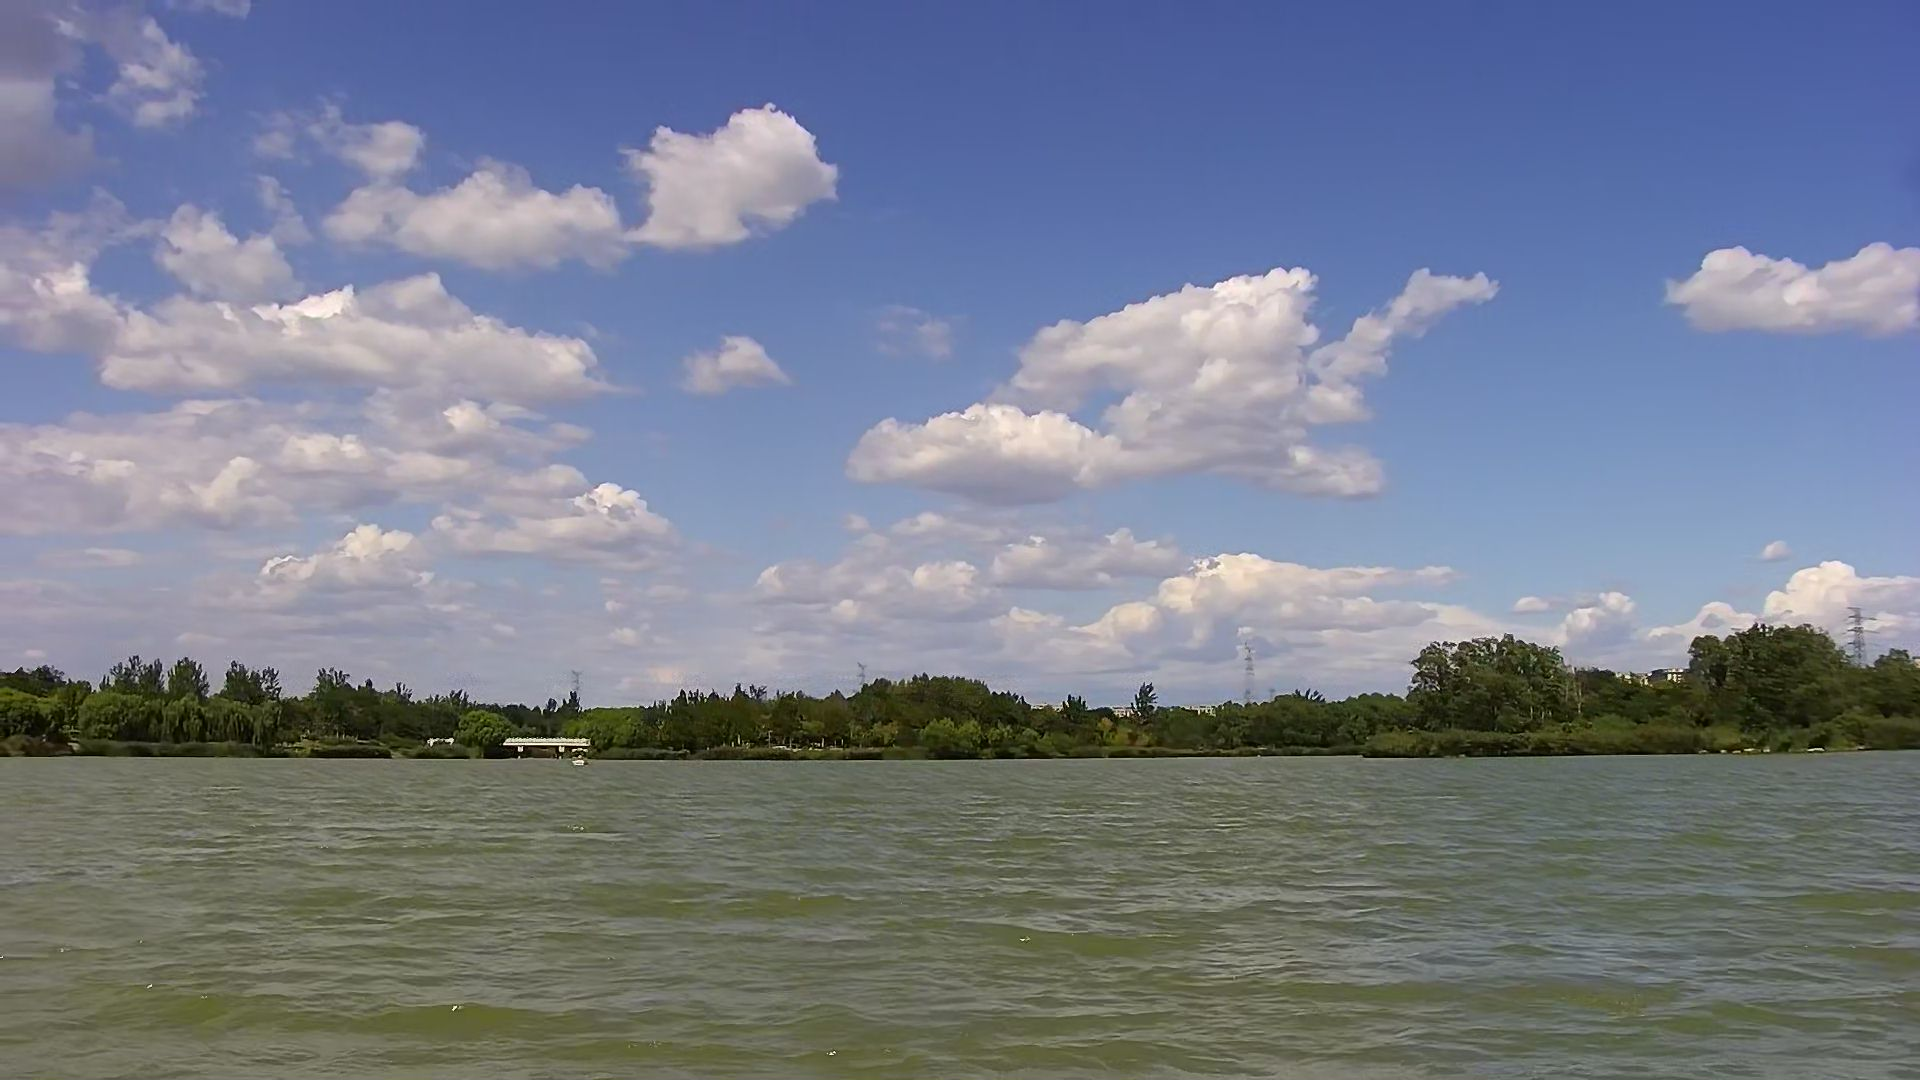bridge: (502, 731, 593, 760)
